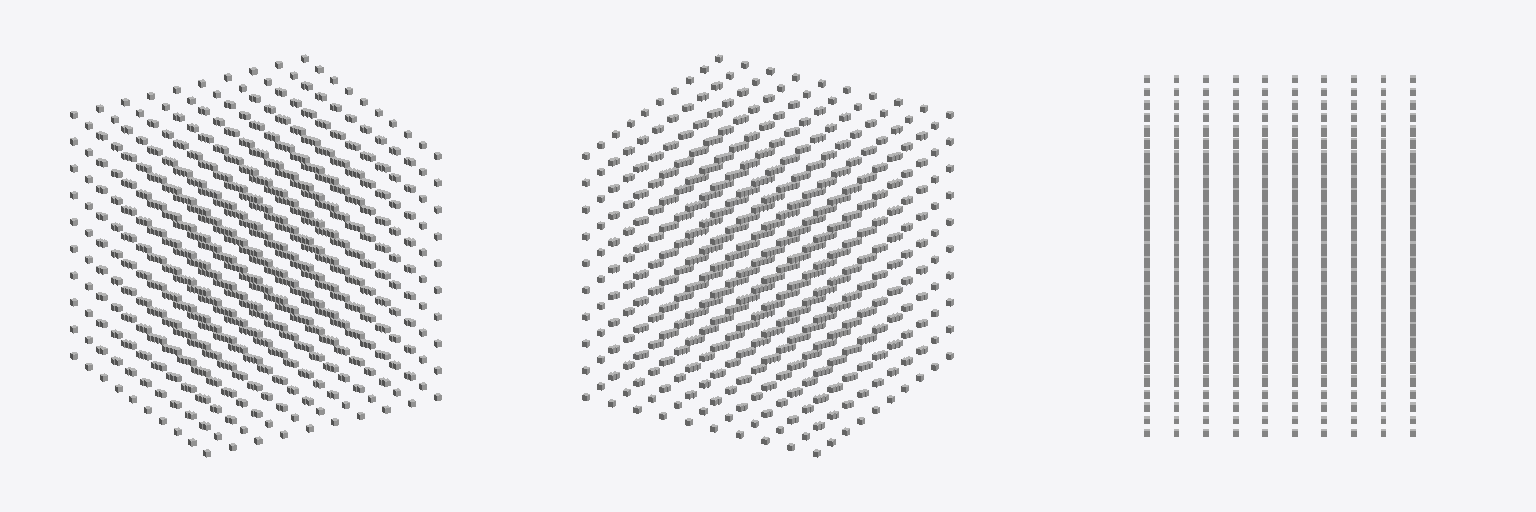
The model's file is cubes.obj.
3 renders of one model, left to right at view 1: azimuth 30°, elevation 25°; view 2: azimuth 150°, elevation 25°; view 3: azimuth 270°, elevation 25°, orthographic.
Visible parts, largest first — view 1: Cube_Cube.001; view 2: Cube_Cube.001; view 3: Cube_Cube.001.
Part boxes in pixels (bbox=[...]): Cube_Cube.001: bbox=[70, 54, 441, 457]; Cube_Cube.001: bbox=[582, 54, 953, 457]; Cube_Cube.001: bbox=[1144, 75, 1415, 436].
Bounding box in the file's own units: 9.2 × 9.2 × 9.2.